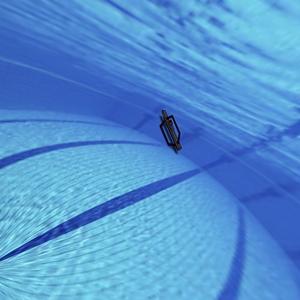submarine: (148, 91, 192, 158)
